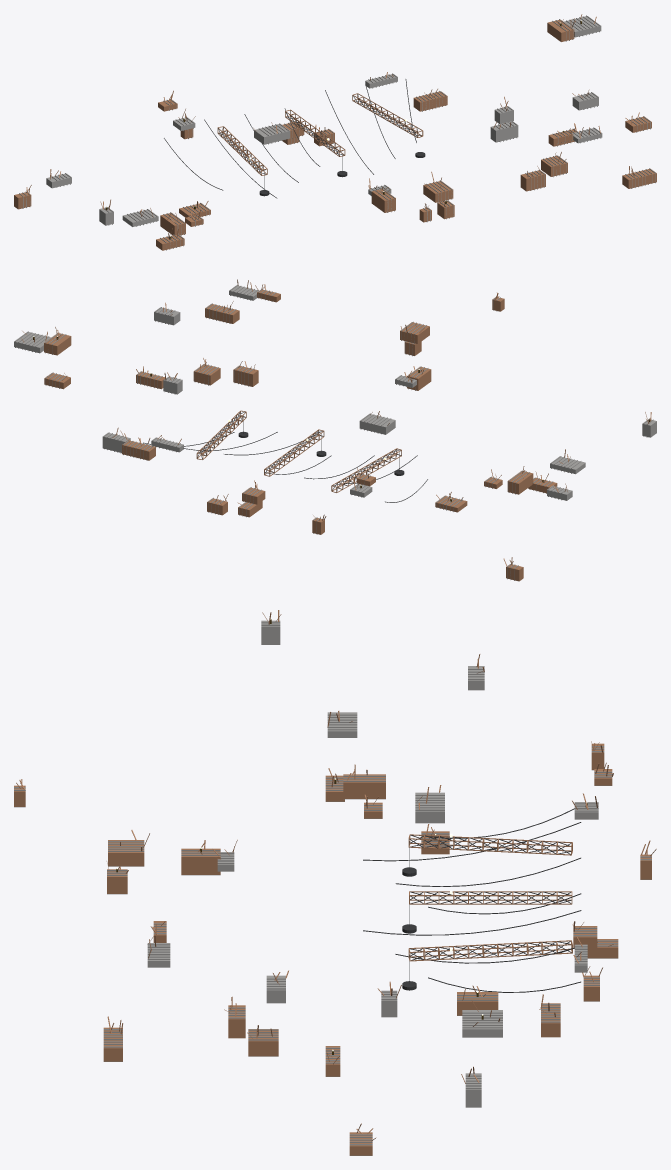
File: rusthaven-surroundings.glb
The picture shows the model from 3 angles, top to bottom: view 1: azimuth 30°, elevation 25°; view 2: azimuth 150°, elevation 25°; view 3: azimuth 270°, elevation 25°; orthographic projection. The views are drawn at different scales.
Parts seen in each view (by area): view 1: vantor_s0; view 2: vantor_s0; view 3: vantor_s0.
Boxes of the visible parts, x1,y1,x2,y2 form: vantor_s0: (14, 14, 656, 250); vantor_s0: (14, 279, 656, 581); vantor_s0: (14, 610, 656, 1155).
Bounding box in the file's own units: 429 × 75.18 × 277.
5 materials, 1 textured.
